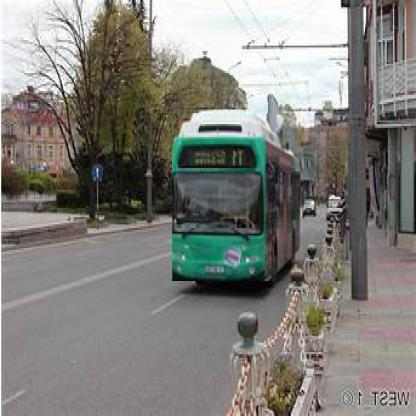bus: (172, 114, 305, 284)
